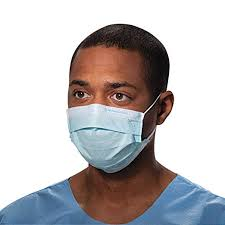mask: (60, 22, 173, 180)
